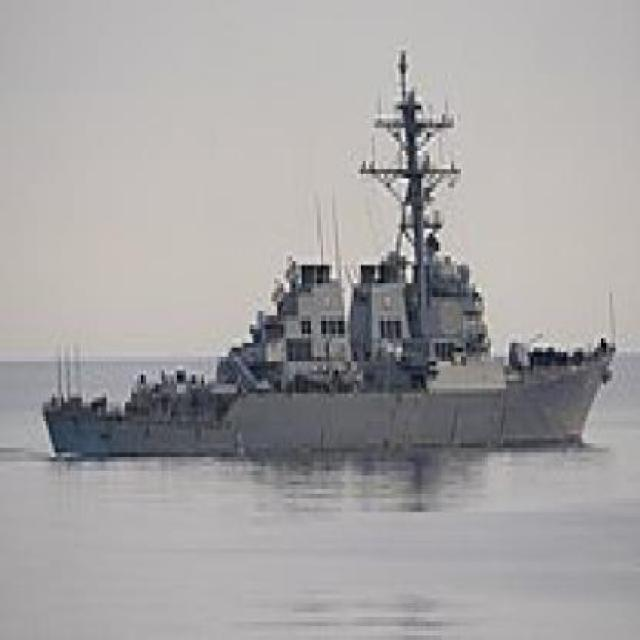warship2: (23, 42, 629, 463)
